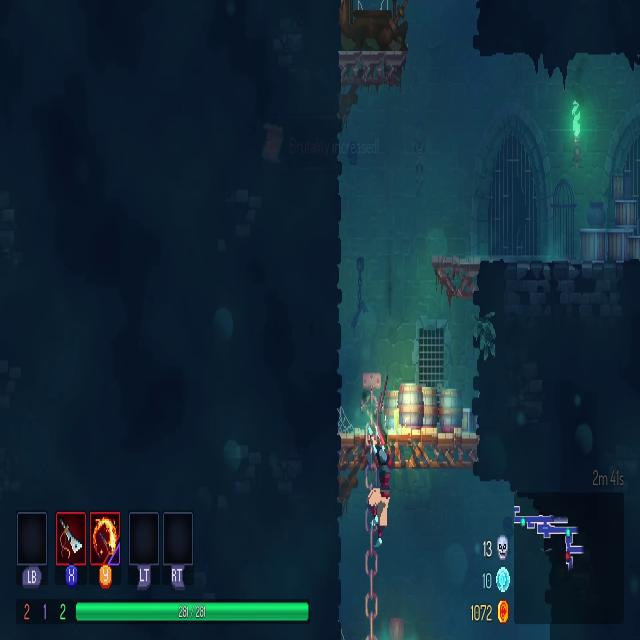agents: (362, 409, 398, 554)
wood_floor: (334, 426, 484, 477), (335, 42, 412, 96), (430, 250, 483, 306)
